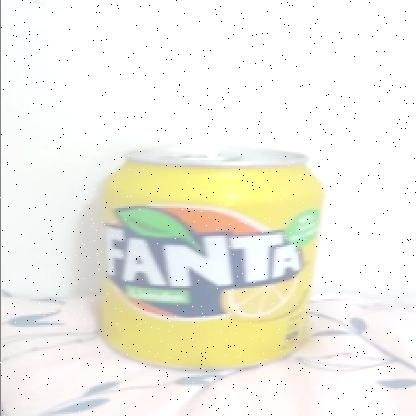Can: (95, 143, 325, 375)
